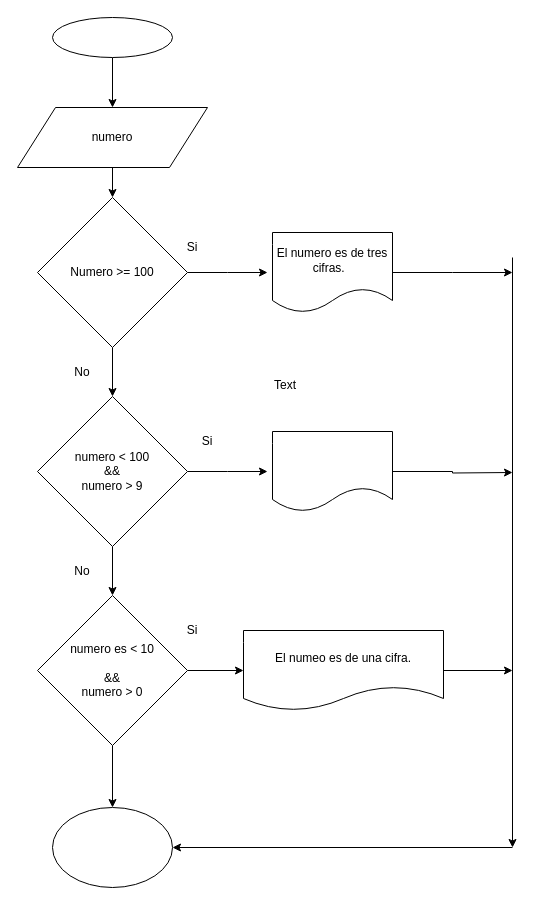
Image size: 538x905. Some labels were removed from this diagram. The shapes that lost their labels are listed below. From the top down, each one's centre as x and y in pixels, then its label:
the point at 112,37: Inicio
the point at 332,471: El numero es de dos cifras
the point at 112,847: Fin
